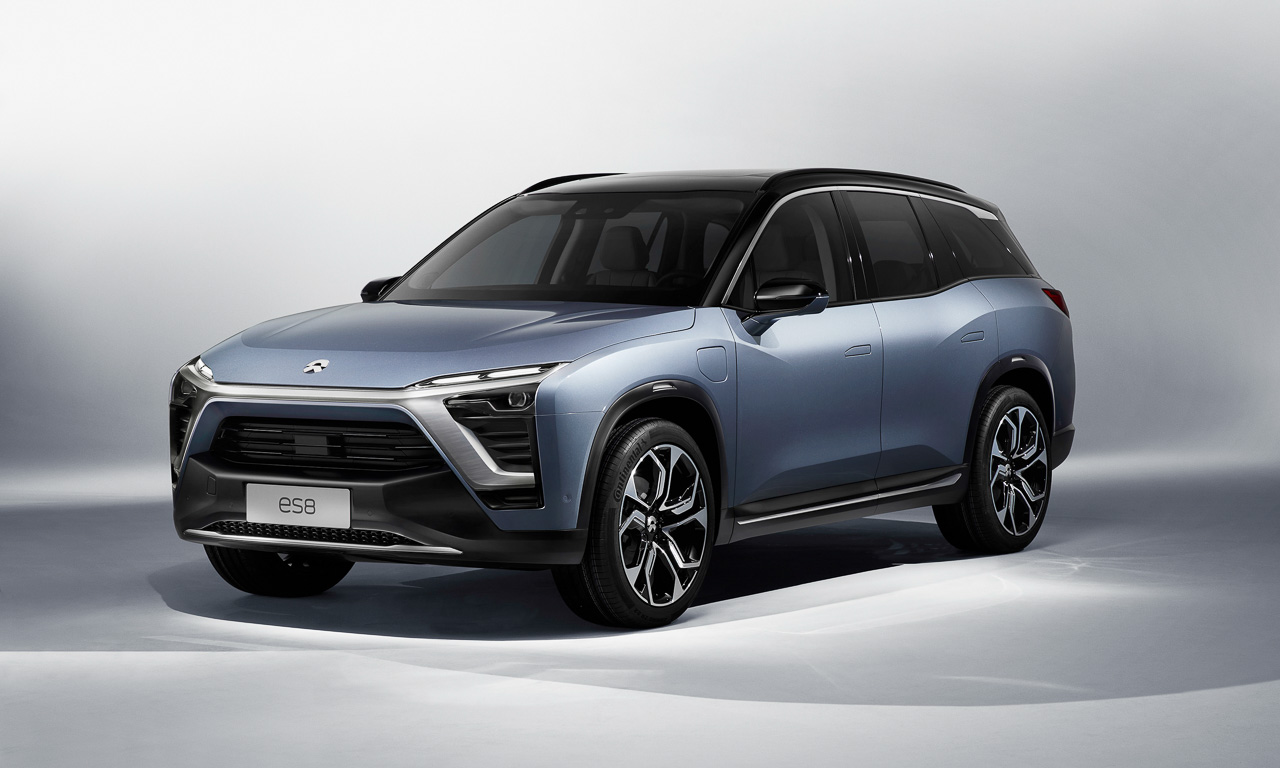pickup: (163, 163, 1081, 635)
